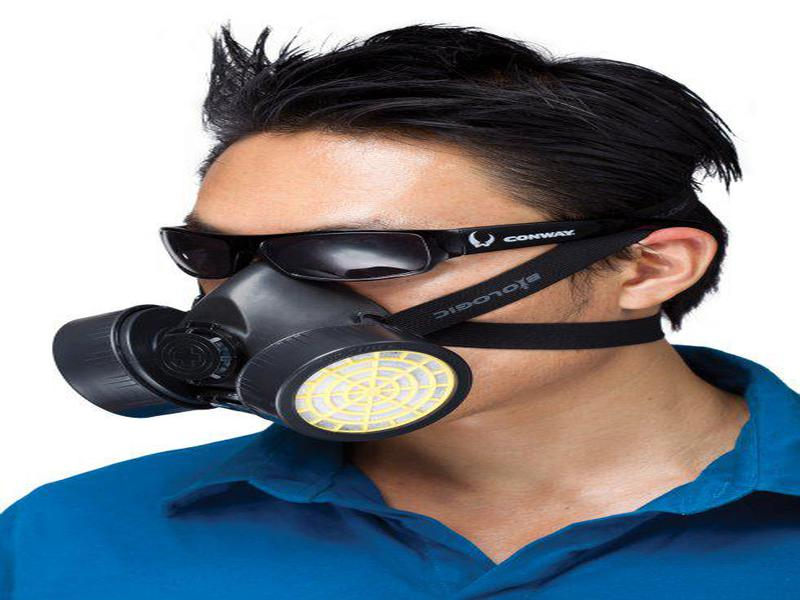with_mask: (53, 27, 734, 445)
